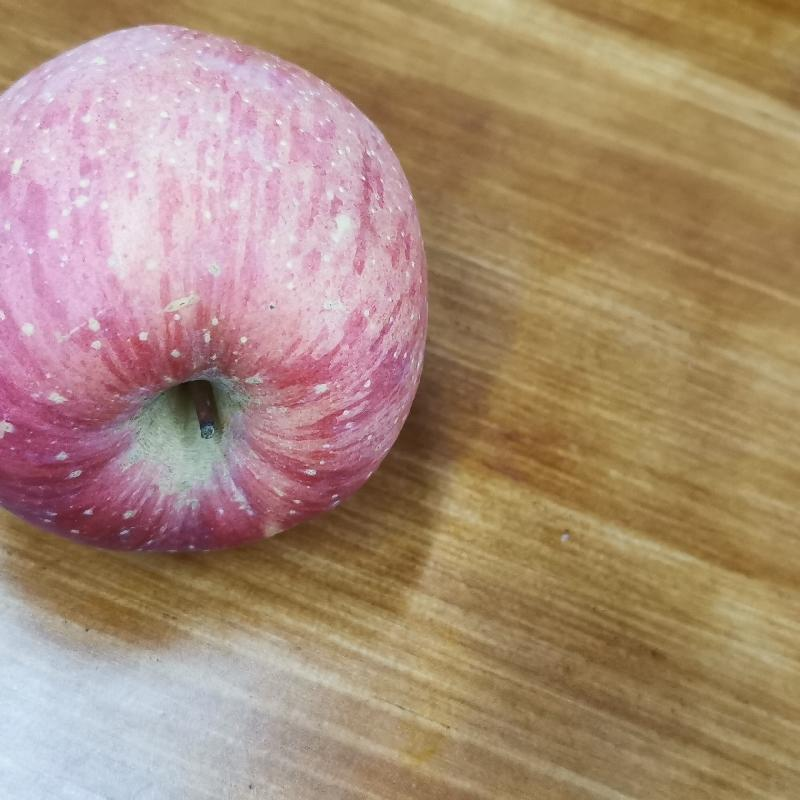apples: (4, 19, 434, 561)
